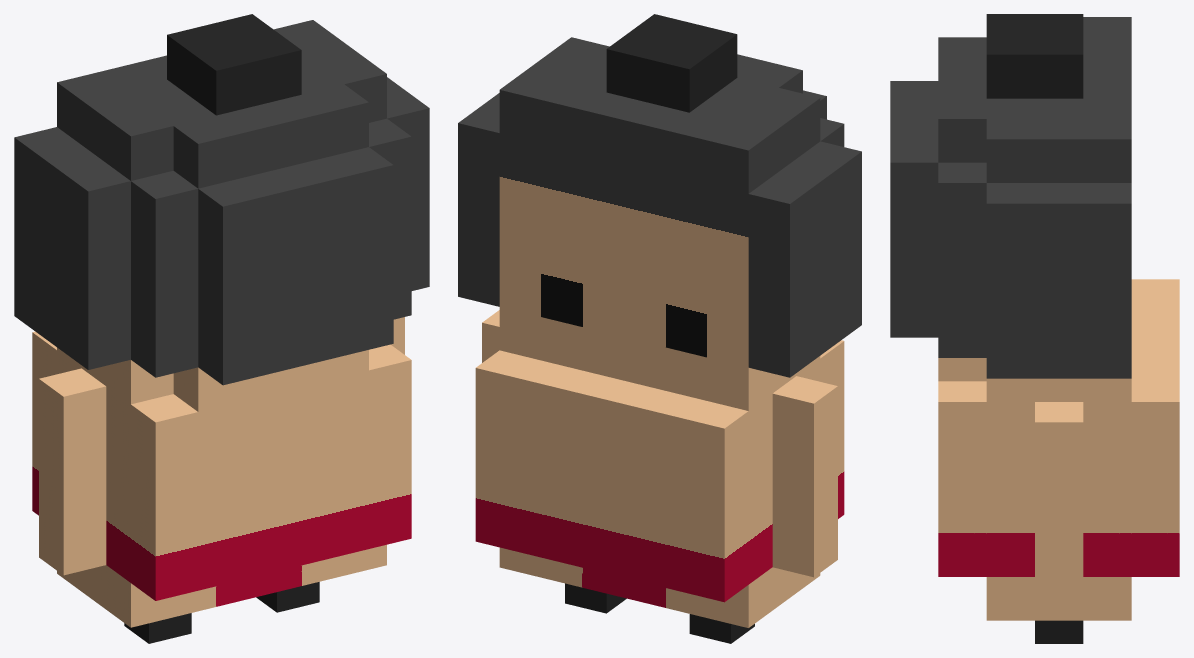
Rendered from chr_sumo2.dae.
3 views of the same model, side by side, from view 1: azimuth 30°, elevation 25°; view 2: azimuth 150°, elevation 25°; view 3: azimuth 270°, elevation 25° (orthographic). The views are drawn at different scales.
Visible parts, largest first — view 1: chr_sumo2; view 2: chr_sumo2; view 3: chr_sumo2.
Part boxes in pixels (bbox=[...]): chr_sumo2: bbox=[14, 14, 429, 643]; chr_sumo2: bbox=[458, 14, 861, 643]; chr_sumo2: bbox=[890, 14, 1179, 643].
Size of the model in its own units: 0.8 by 0.6 by 1.3.
